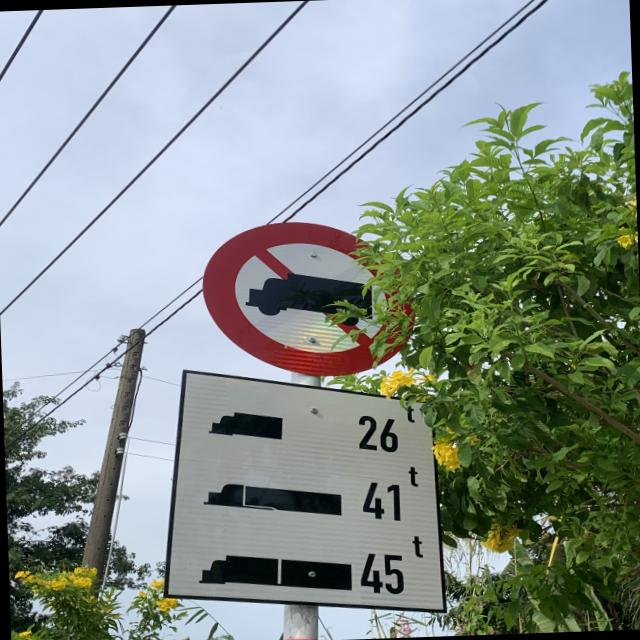Cam_Xe_Tai: (204, 214, 419, 378)
